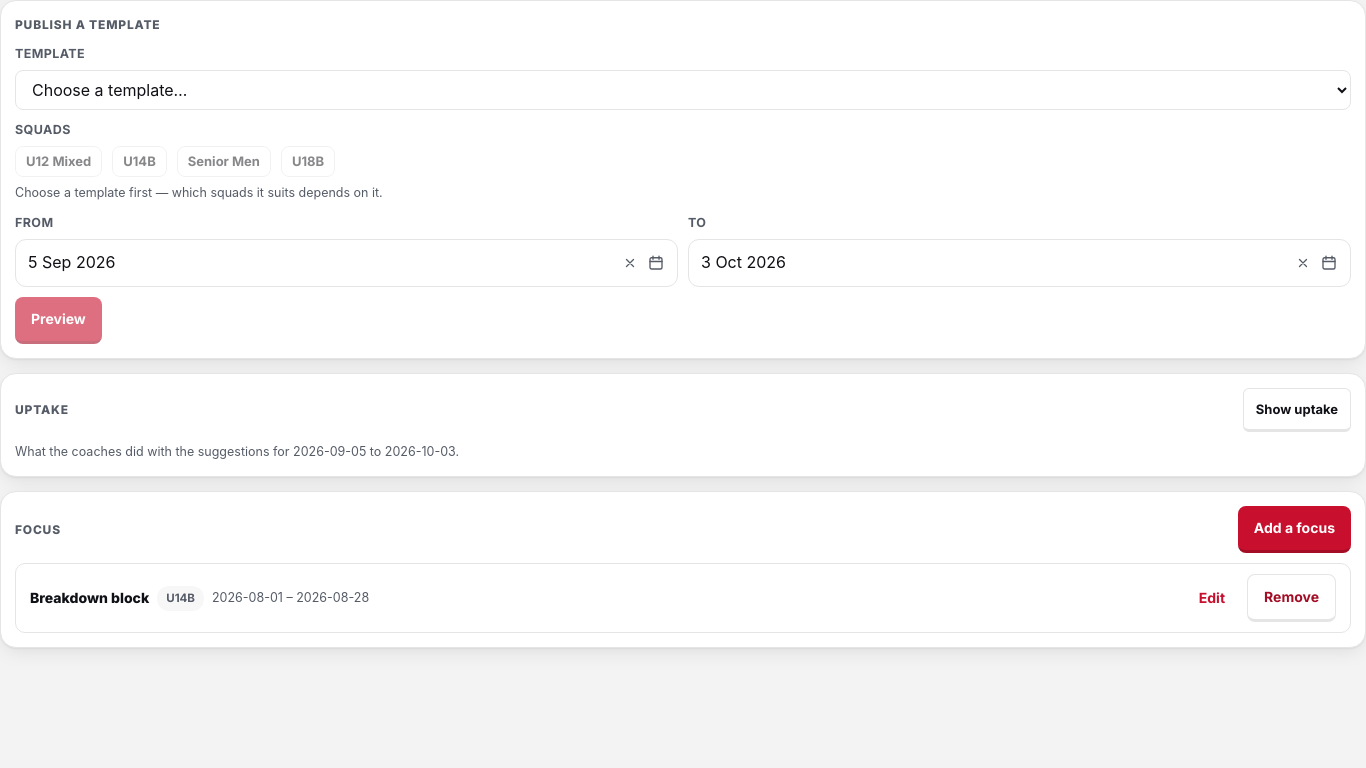
Scenario: TrainingPublish › disables a tag squad for a contact template with the reason; age only annotates
Select "Contact hour · 60 min" in the dropdown labelled "Template" at coordinates (683, 90), box [15,70,1351,110]
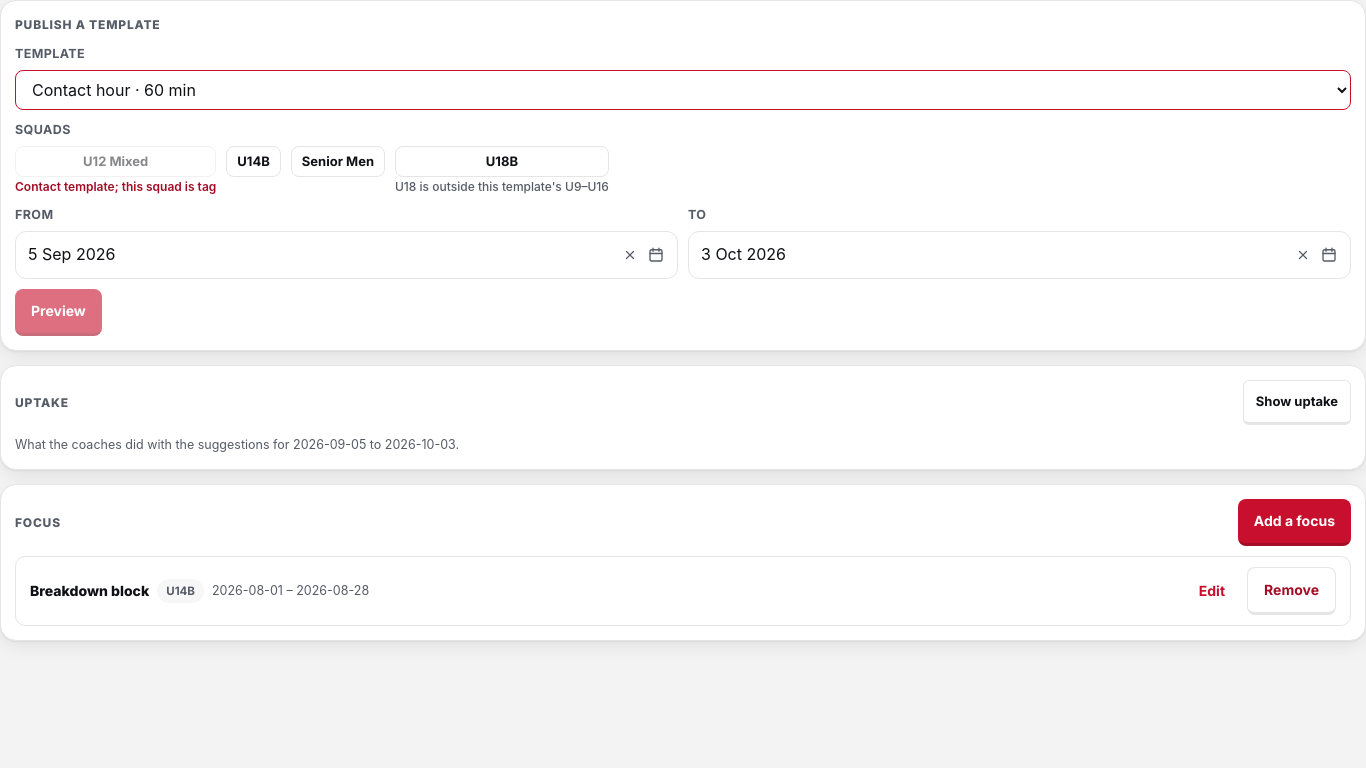
Expected: the text "Contact template; this squad is tag" is shown, [15,179,216,196]
Expected: the checkbox labelled "Senior Men" is enabled, [291,146,385,177]
Expected: the checkbox named "U18B, U18 is outside this template's U9–U16" is enabled, [395,146,609,177]
